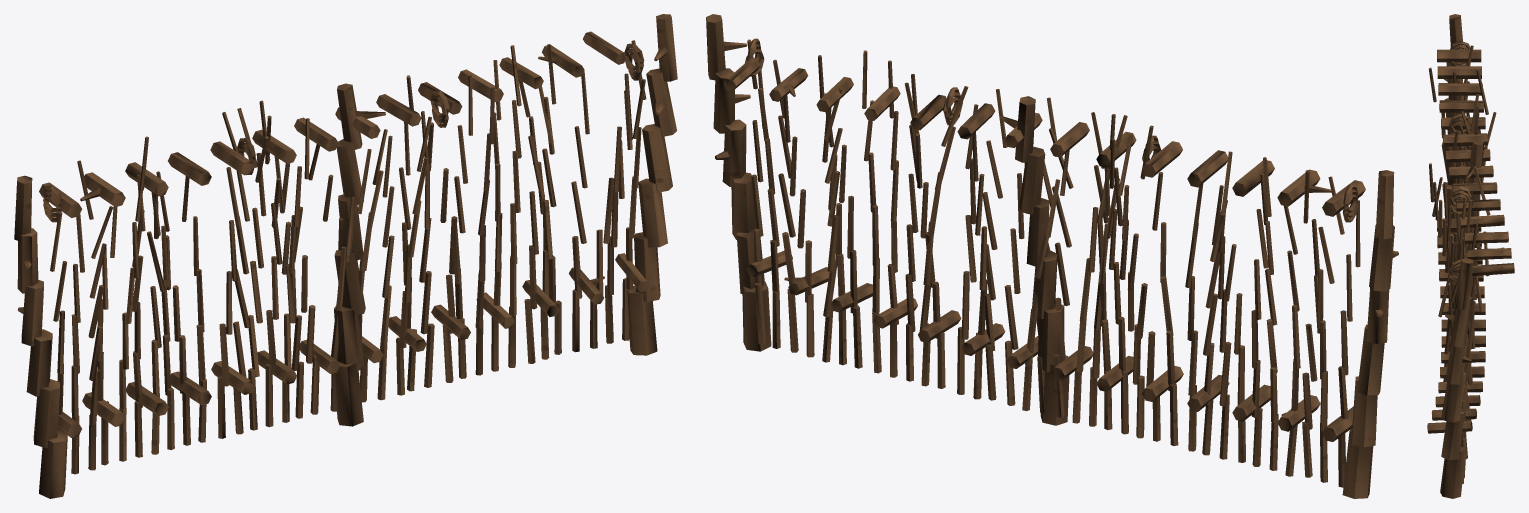
Rendered from palm.glb.
The picture shows the model from 3 angles, left to right: view 1: azimuth 30°, elevation 25°; view 2: azimuth 150°, elevation 25°; view 3: azimuth 270°, elevation 25°; orthographic projection. The views are drawn at different scales.
Parts seen in each view (by area): view 1: palm; view 2: palm; view 3: palm.
Part boxes in pixels (bbox=[...]): palm: bbox=[14, 14, 677, 498]; palm: bbox=[706, 14, 1398, 498]; palm: bbox=[1427, 14, 1514, 498].
Size of the model in its own units: 4.57 by 2.15 by 0.6751.
1 material, 1 textured.
